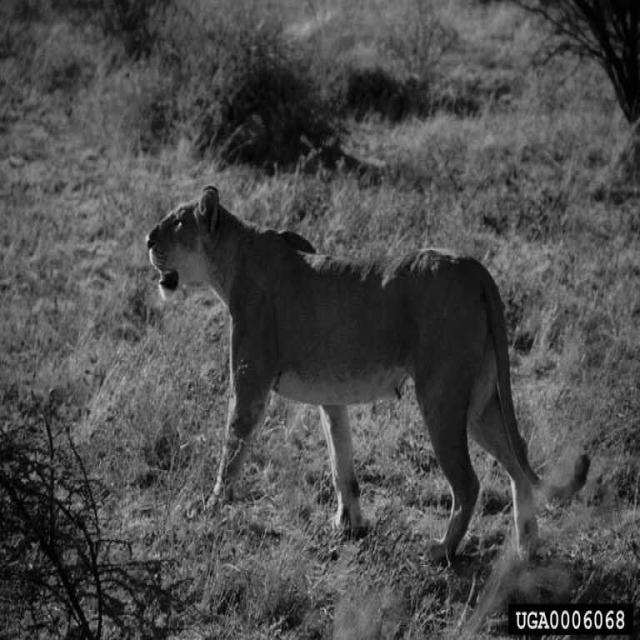Lion: (137, 179, 589, 536)
